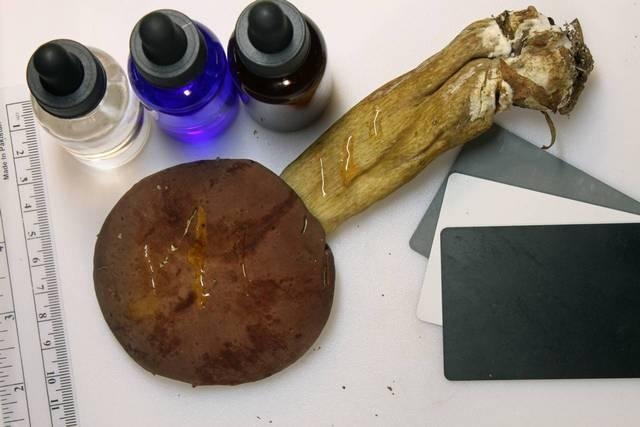poisonous_mushroom: (87, 150, 345, 387), (346, 1, 595, 170)
